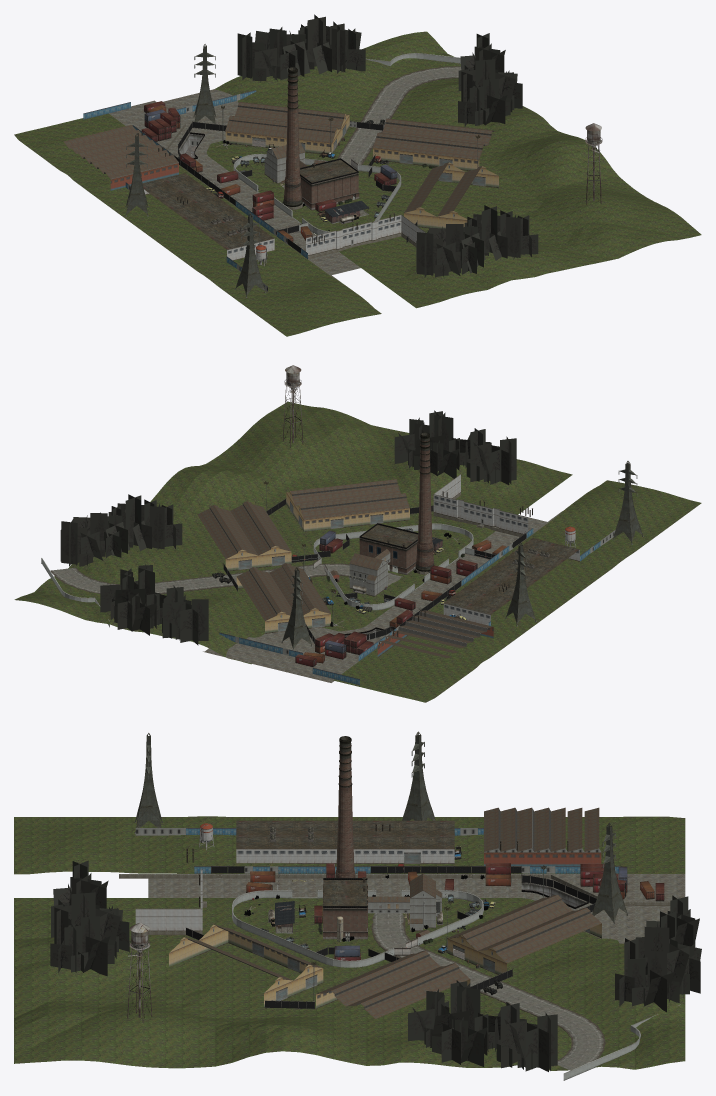
File: compound.glb
3 renders of one model, top to bottom at view 1: azimuth 30°, elevation 25°; view 2: azimuth 150°, elevation 25°; view 3: azimuth 270°, elevation 25°, orthographic. The views are drawn at different scales.
Parts seen in each view (by area): view 1: Object_36, Object_98, Object_4, Object_8, Object_27, Object_57, Object_19, Object_79, Object_40, Object_7, Object_23, Object_22 (+10 smaller); view 2: Object_36, Object_98, Object_4, Object_8, Object_27, Object_57, Object_19, Object_24, Object_7, Object_40, Object_79, Object_22 (+11 smaller); view 3: Object_36, Object_98, Object_4, Object_8, Object_27, Object_19, Object_57, Object_7, Object_62, Object_12, Object_40, Object_23 (+15 smaller).
Boxes of the visible parts, x1,y1,x2,y2 form: Object_36: (14, 31, 701, 336); Object_98: (237, 14, 538, 277); Object_4: (63, 102, 495, 216); Object_8: (109, 89, 401, 280); Object_27: (142, 160, 356, 249); Object_57: (125, 44, 265, 297); Object_19: (282, 66, 461, 188); Object_79: (141, 101, 396, 220); Object_40: (283, 67, 302, 206); Object_7: (233, 53, 460, 234); Object_23: (229, 114, 498, 225); Object_22: (227, 215, 401, 255); Object_36: (14, 401, 701, 702); Object_98: (60, 410, 516, 645); Object_4: (197, 479, 493, 658); Object_8: (203, 511, 562, 682); Object_27: (361, 524, 579, 614); Object_57: (281, 461, 643, 650); Object_19: (50, 563, 402, 593); Object_24: (209, 482, 487, 646); Object_7: (41, 523, 474, 627); Object_40: (415, 432, 434, 571); Object_79: (295, 538, 477, 666); Object_22: (433, 494, 579, 620); Object_36: (14, 816, 685, 1070); Object_98: (50, 860, 701, 1071); Object_4: (185, 807, 601, 1018); Object_8: (119, 874, 685, 943); Object_27: (236, 820, 454, 905); Object_19: (371, 913, 605, 1070); Object_57: (134, 731, 628, 925); Object_7: (232, 885, 680, 1080); Object_62: (186, 866, 596, 1008); Object_12: (119, 874, 670, 939); Object_40: (335, 736, 355, 877); Object_23: (169, 899, 601, 1000).
Size of the model in its own units: 257 by 83.87 by 287.
Materials: 100 (100 with a texture image).
